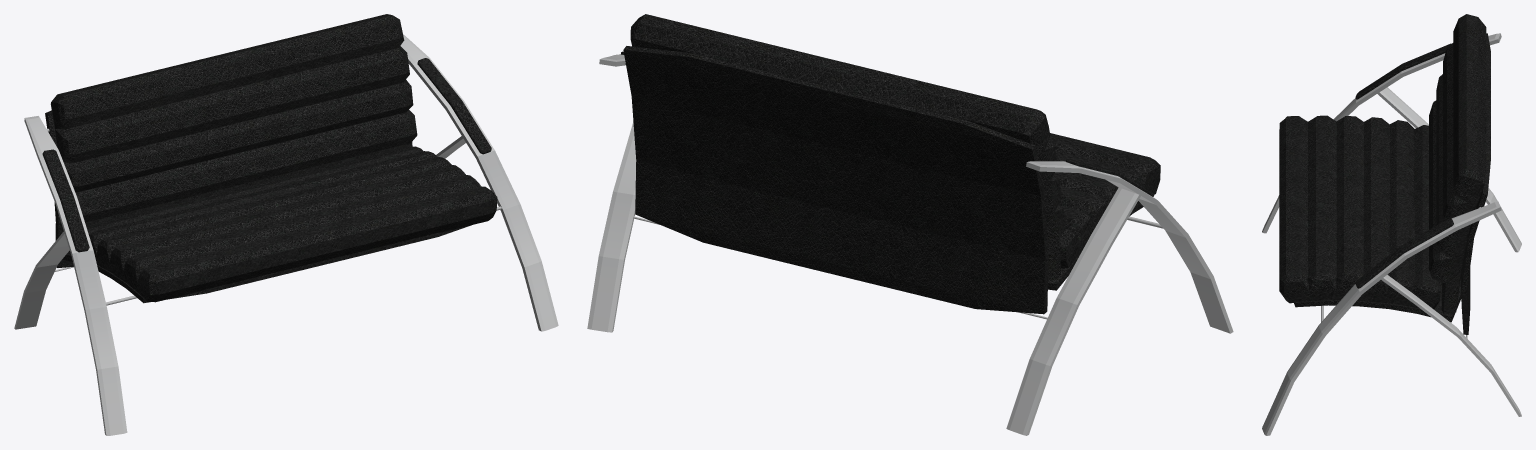
Rendered from Sofa03.fbx.
3 renders of one model, left to right at view 1: azimuth 30°, elevation 25°; view 2: azimuth 150°, elevation 25°; view 3: azimuth 270°, elevation 25°, orthographic. The views are drawn at different scales.
Visible parts, largest first — view 1: Empty_Mesh; view 2: Empty_Mesh; view 3: Empty_Mesh.
Boxes of the visible parts, bbox=[...] form: Empty_Mesh: bbox=[14, 14, 558, 435]; Empty_Mesh: bbox=[587, 14, 1233, 435]; Empty_Mesh: bbox=[1262, 14, 1521, 435].
Bounding box in the file's own units: 186 × 98.03 × 96.63.
